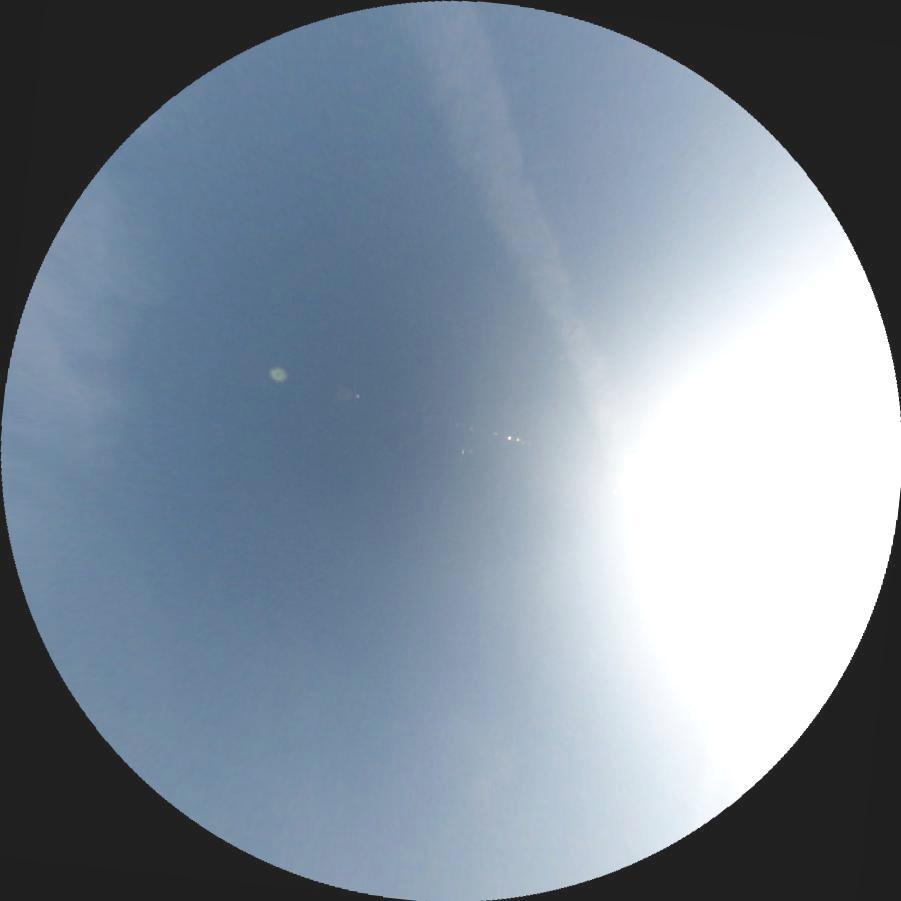sun: (699, 382, 901, 616)
